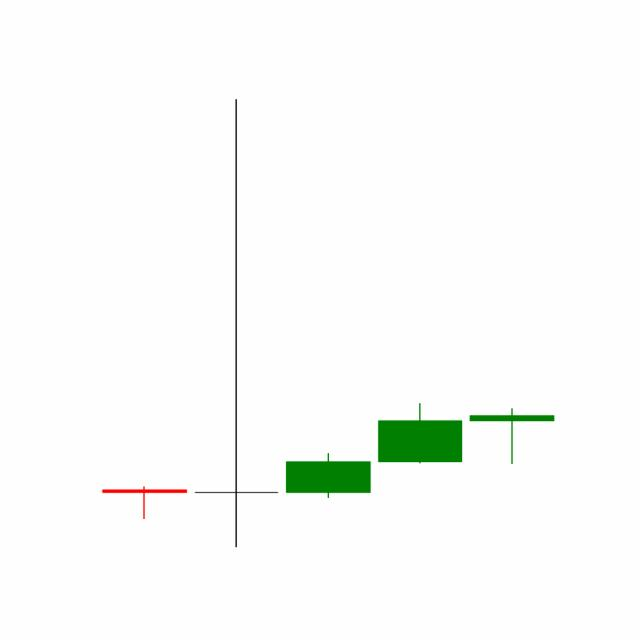Spinning Top: (464, 406, 558, 464)
